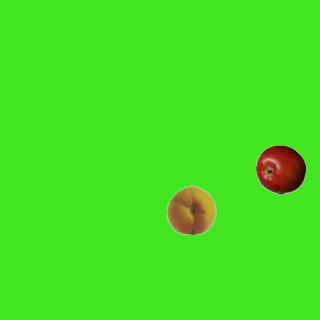Apple Braeburn: (255, 144, 305, 194)
Peach 2: (166, 184, 216, 234)
